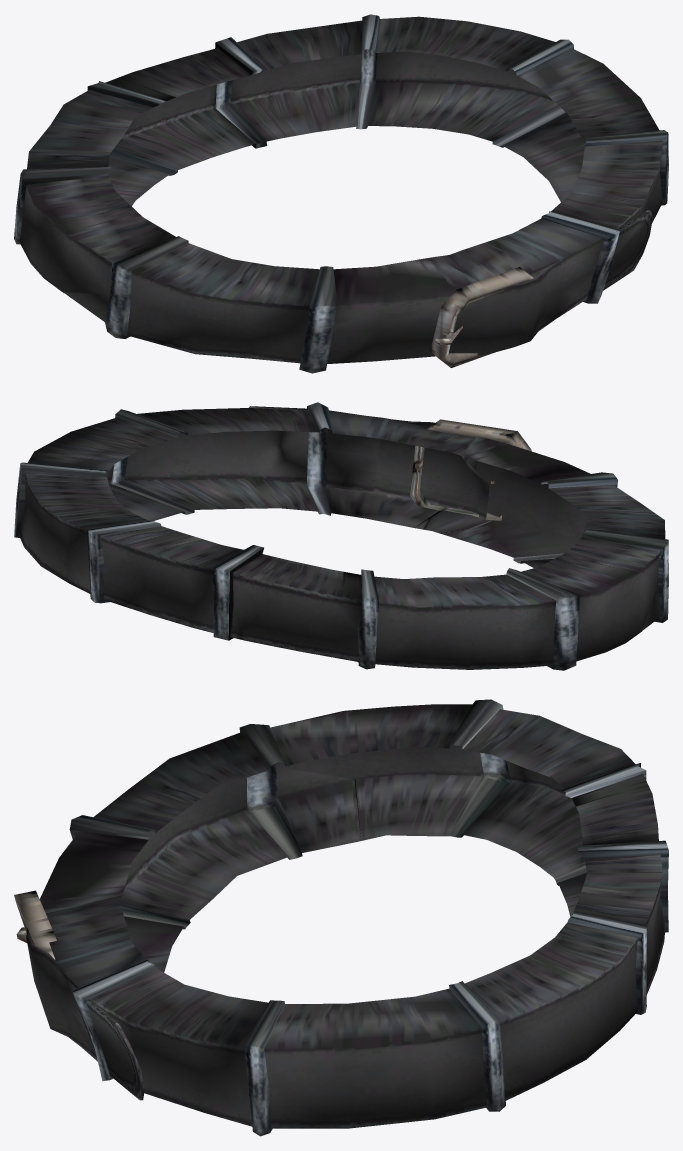
The model's file is BeltShape.obj.
The picture shows the model from 3 angles, top to bottom: view 1: azimuth 30°, elevation 25°; view 2: azimuth 150°, elevation 25°; view 3: azimuth 270°, elevation 25°; orthographic projection. The views are drawn at different scales.
Parts seen in each view (by area): view 1: Belt Brad_Skin CharacterRoot; view 2: Belt Brad_Skin CharacterRoot; view 3: Belt Brad_Skin CharacterRoot.
Part boxes in pixels (<box>): Belt Brad_Skin CharacterRoot: <box>14,14,668,373</box>; Belt Brad_Skin CharacterRoot: <box>14,402,668,670</box>; Belt Brad_Skin CharacterRoot: <box>14,699,668,1136</box>.
Bounding box in the file's own units: 35.12 × 7.7 × 28.51.
Materials: 1 (1 with a texture image).
